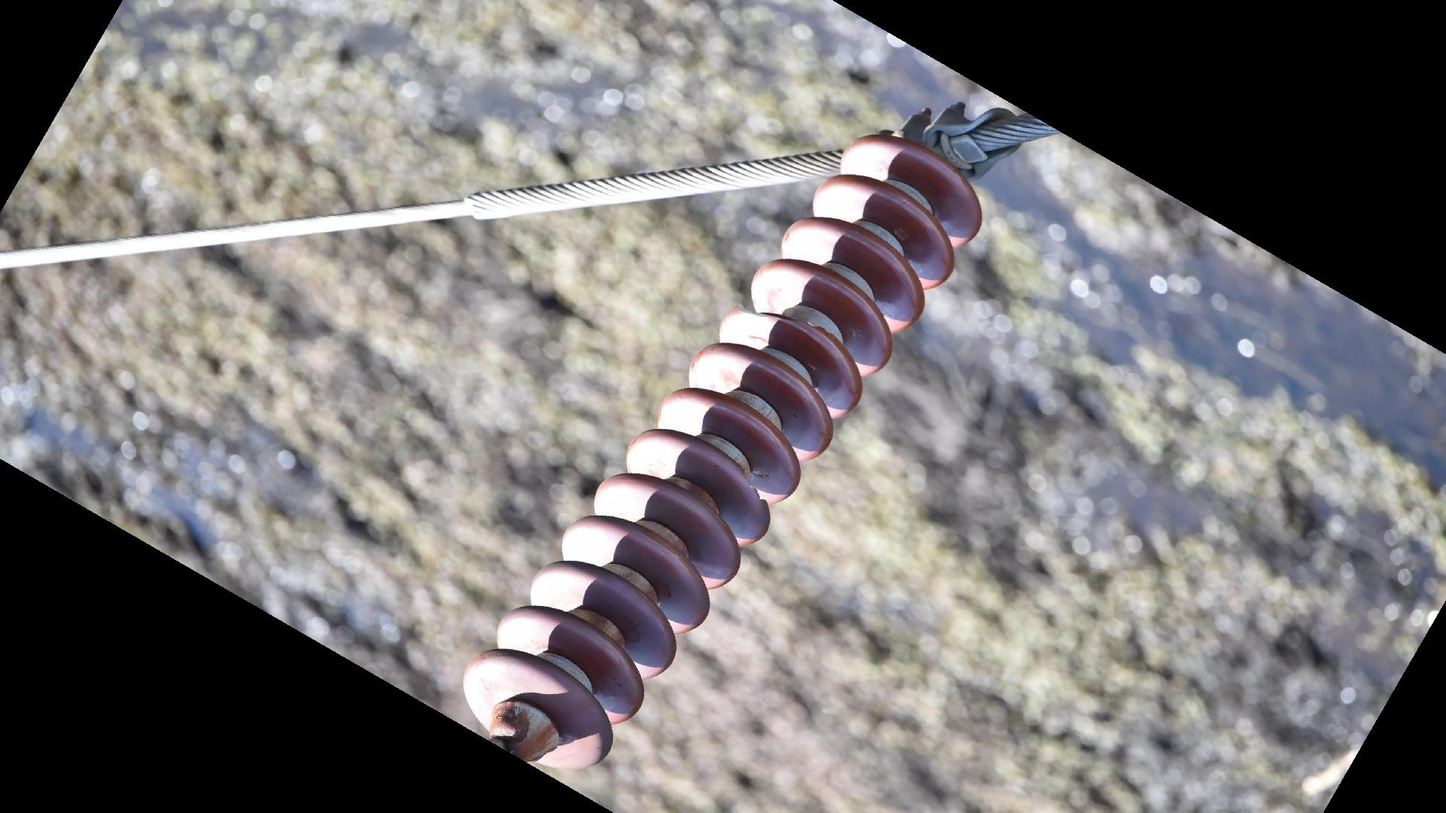insulator: (455, 130, 987, 777)
insulator_breakage: (728, 295, 837, 342)
